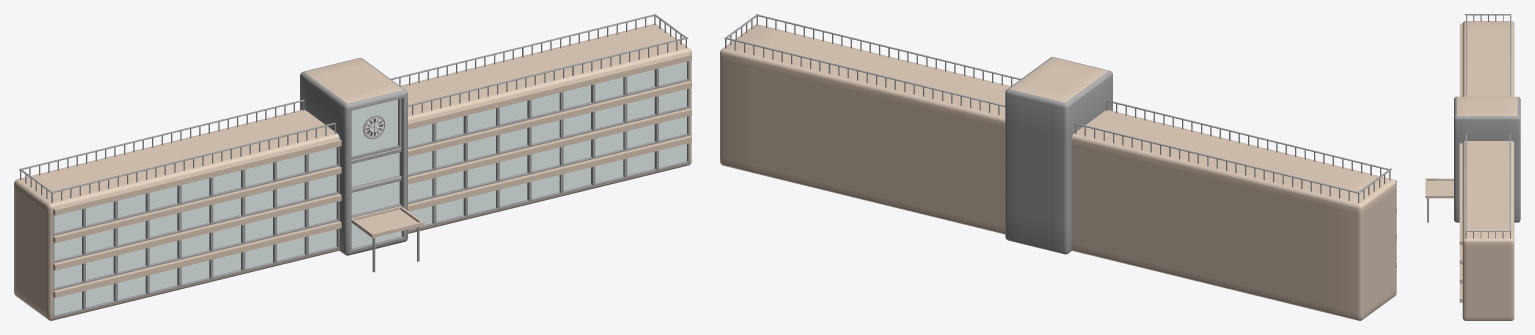
File: school.glb
3 renders of one model, left to right at view 1: azimuth 30°, elevation 25°; view 2: azimuth 150°, elevation 25°; view 3: azimuth 270°, elevation 25°, orthographic. The views are drawn at different scales.
Parts seen in each view (by area): view 1: 학교_1; view 2: 학교_1; view 3: 학교_1.
Part boxes in pixels (x1,y1,x2,y2): 학교_1: (14,14,691,320); 학교_1: (720,14,1396,320); 학교_1: (1425,14,1520,320).
Size of the model in its own units: 110 by 25.17 by 20.03.
4 materials, 1 textured.
